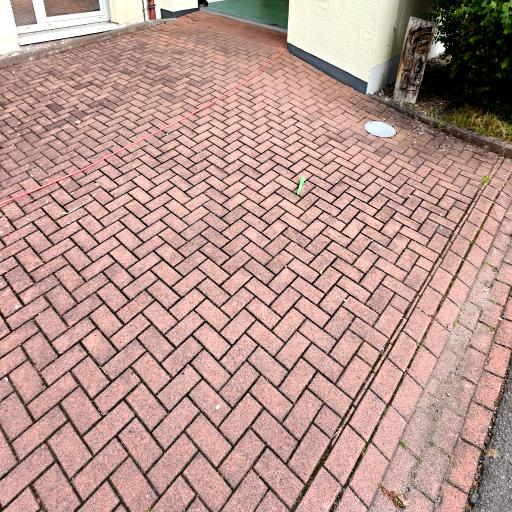Probe-Detection: (297, 176, 305, 196)
